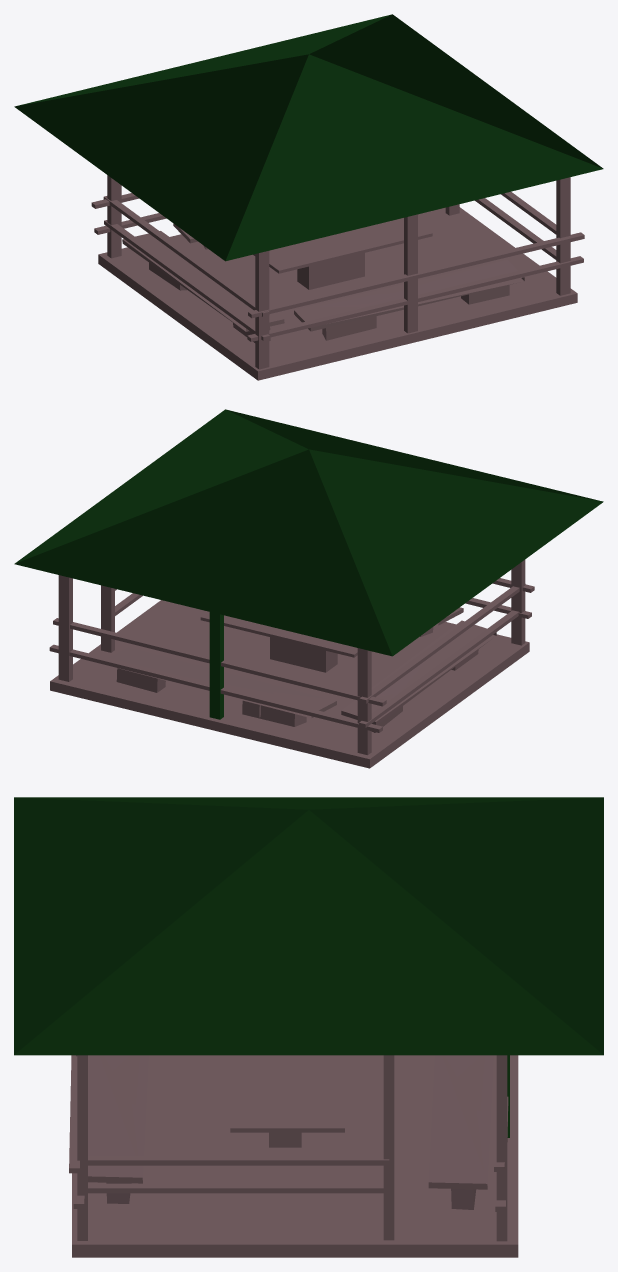
The model's file is Agri_Z3_Shed.glb.
3 renders of one model, top to bottom at view 1: azimuth 30°, elevation 25°; view 2: azimuth 150°, elevation 25°; view 3: azimuth 270°, elevation 25°, orthographic. The views are drawn at different scales.
Visible parts, largest first — view 1: Cube.025, Cube.003, Cube.016, Cube.004, Cube.011, Cube.001, Cube.030, Cube.029, Cube, Cube.026, Cube.005, Cube.010 (+5 smaller); view 2: Cube.025, Cube.003, Cube.016, Cube.014, Cube.001, Cube.027, Cube.028, Cube, Cube.026, Cube.011, Cube.008, Cube.010 (+4 smaller); view 3: Cube.025, Cube.016, Cube.003, Cube.014, Cube.011, Cube.004, Cube.015, Cube.013, Cube.012, Cube.018, Cube.008, Cube.006 (+1 smaller).
Part boxes in pixels (x1,y1,x2,y2): Cube.025: (14,14,603,261); Cube.003: (98,207,577,380); Cube.016: (309,14,602,168); Cube.004: (294,260,524,340); Cube.011: (269,218,432,273); Cube.001: (122,231,284,342); Cube.030: (248,232,584,318); Cube.029: (247,256,583,341); Cube: (104,220,269,340); Cube.026: (103,196,269,316); Cube.005: (255,251,269,369); Cube.010: (297,253,364,289); Cube.025: (14,409,603,656); Cube.003: (50,600,529,768); Cube.016: (15,409,308,563); Cube.014: (103,647,336,726); Cube.001: (341,620,496,732); Cube.027: (49,644,382,732); Cube.028: (53,618,386,706); Cube: (359,610,519,727); Cube.026: (359,586,519,703); Cube.011: (200,611,357,657); Cube.008: (58,575,72,681); Cube.010: (270,637,337,672); Cube.025: (14,797,603,1054); Cube.016: (14,810,603,1055); Cube.003: (72,1055,518,1244); Cube.014: (428,1055,493,1209); Cube.011: (230,1055,344,1128); Cube.004: (88,1055,148,1203); Cube.015: (72,1244,518,1257); Cube.013: (88,1183,383,1193); Cube.012: (78,1156,389,1165); Cube.018: (383,1055,394,1240); Cube.008: (496,1055,507,1241); Cube.006: (77,1055,87,1240).
Bounding box in the file's own units: 12.24 × 7.12 × 11.79.
